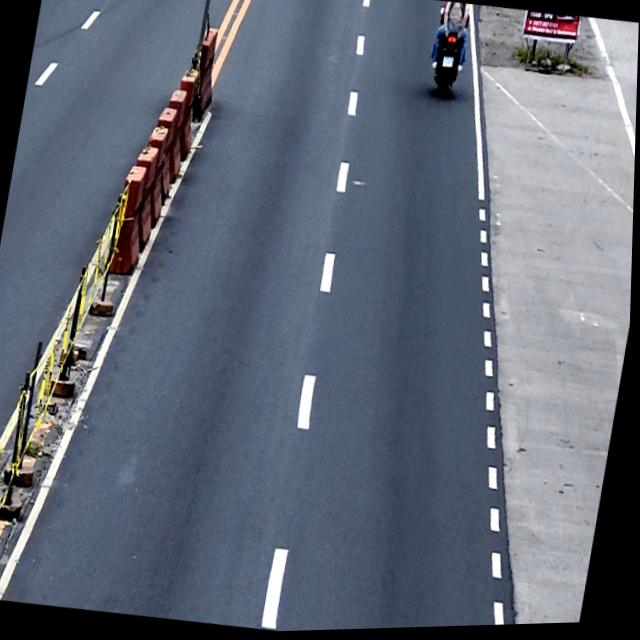License-Plate: (441, 55, 455, 72)
Motorcycle: (425, 8, 474, 103)
